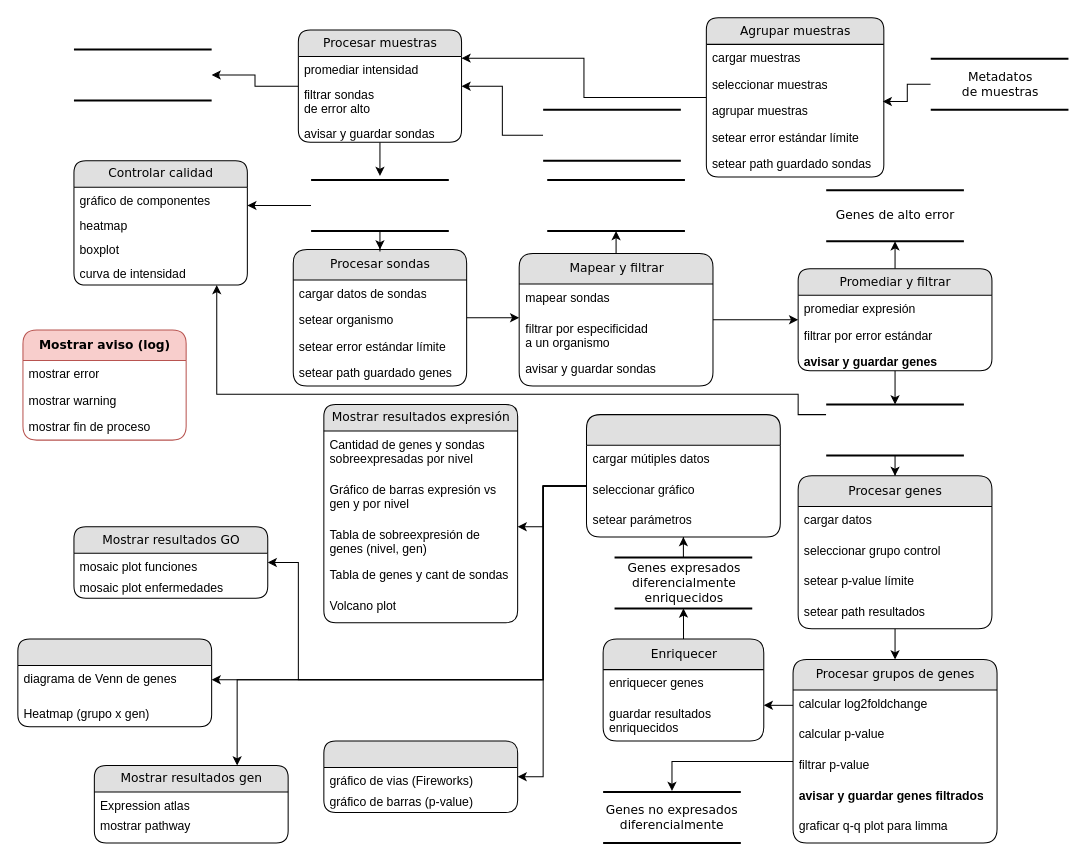
This 1087x864 diagram has some shape labels left out. Each missing label, with the box of its shape:
Análisis y metanálisis de resultados: (585, 414, 780, 537)
Datos de muestras: (542, 108, 681, 161)
Genes por grupo: (825, 403, 964, 456)
Mostrar resultados de vías: (323, 740, 518, 812)
Mostrar resultados meta: (17, 638, 212, 727)
Sondas de error alto: (72, 48, 212, 101)
Sondas e intensidad por grupo: (310, 178, 449, 232)
Sondas inespecíficas: (546, 178, 685, 232)
